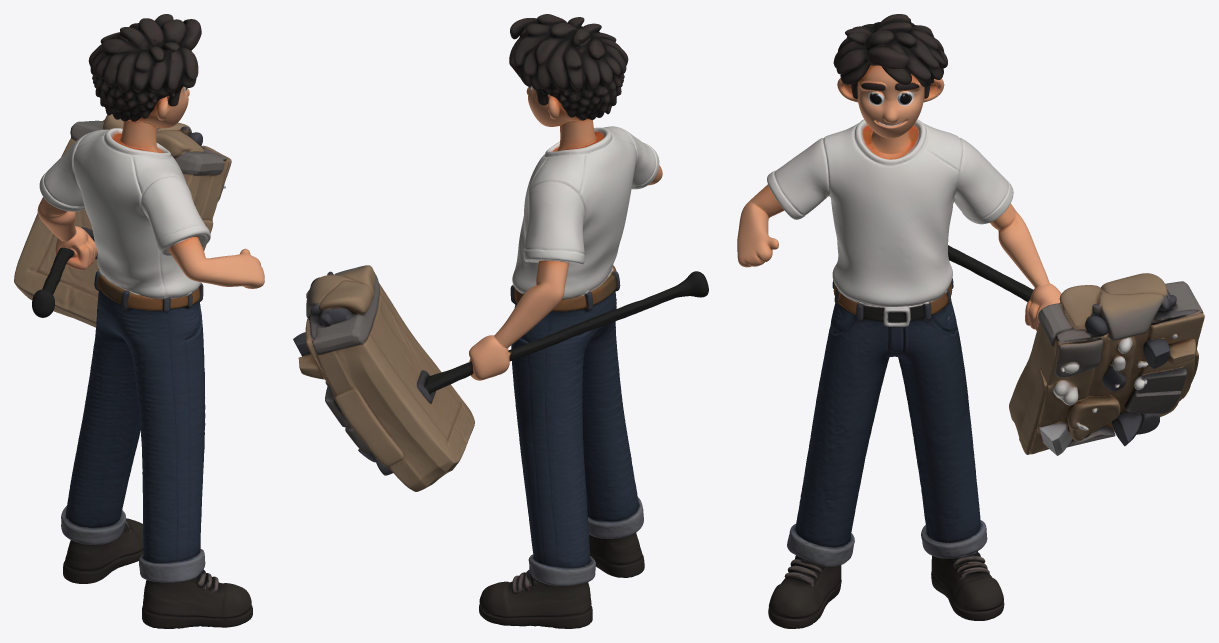
The picture shows the model from 3 angles, left to right: view 1: azimuth 30°, elevation 25°; view 2: azimuth 150°, elevation 25°; view 3: azimuth 270°, elevation 25°; orthographic projection. The views are drawn at different scales.
Parts seen in each view (by area): view 1: tripo_node_bb3ef0cf-047b-4910-8ee2-fb36f2b76df2; view 2: tripo_node_bb3ef0cf-047b-4910-8ee2-fb36f2b76df2; view 3: tripo_node_bb3ef0cf-047b-4910-8ee2-fb36f2b76df2.
Part boxes in pixels (bbox=[...]): tripo_node_bb3ef0cf-047b-4910-8ee2-fb36f2b76df2: bbox=[14, 14, 264, 628]; tripo_node_bb3ef0cf-047b-4910-8ee2-fb36f2b76df2: bbox=[293, 14, 708, 628]; tripo_node_bb3ef0cf-047b-4910-8ee2-fb36f2b76df2: bbox=[737, 14, 1204, 628].
Bounding box in the file's own units: 0.5417 × 1 × 0.727.
1 material, 1 textured.
